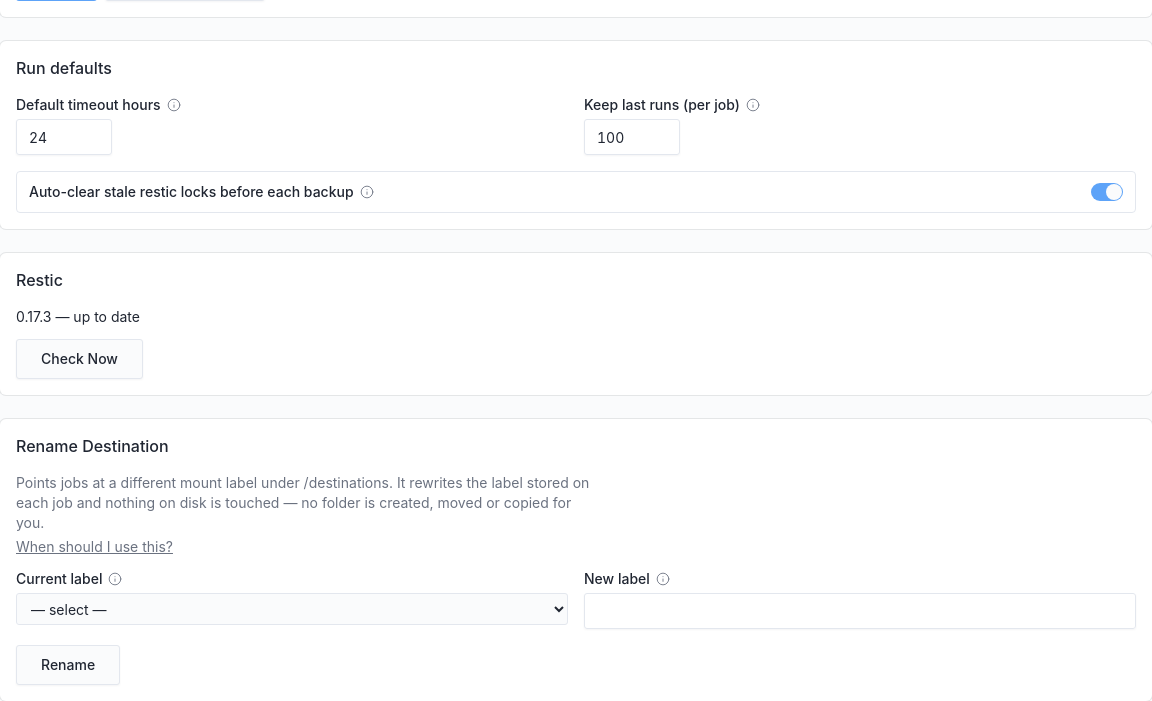
Test case: Settings › rename destination form › shows 422 validation error for invalid label characters
(page scrolled)
Type "invalid label!" into the field labelled "New label".
click(860, 611); type("invalid label!")  # box [584, 593, 1136, 629]
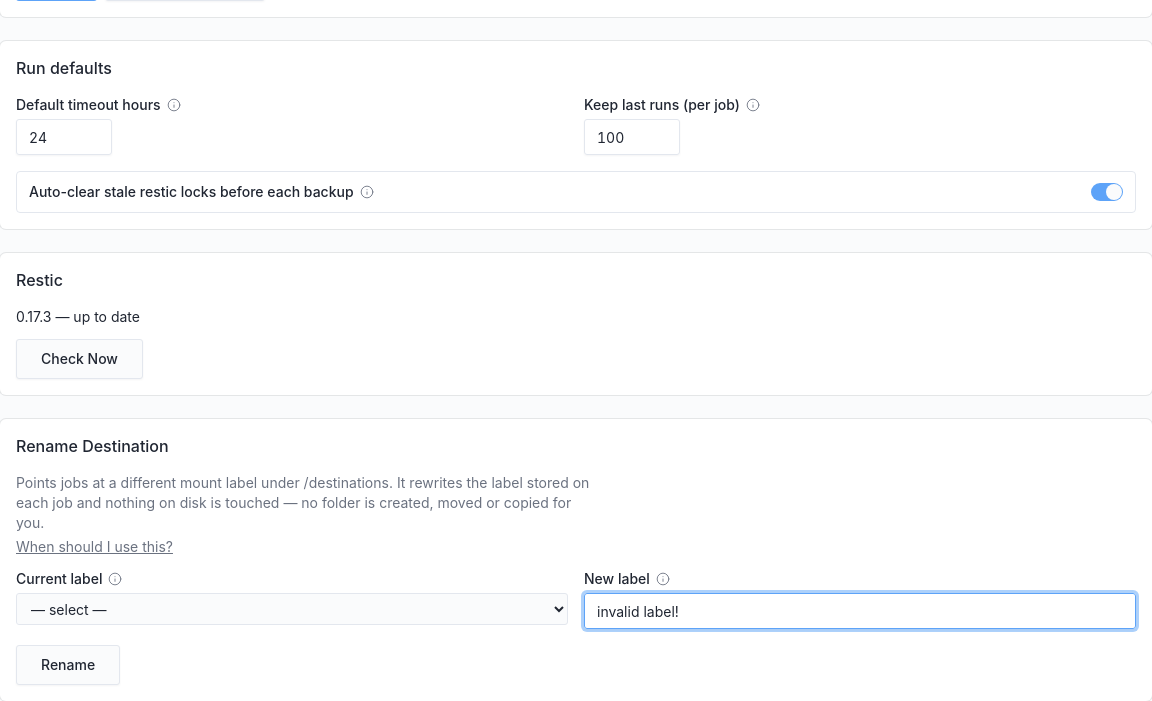
Click the button "Rename".
click(68, 665)  # box [16, 645, 120, 685]
(page scrolled)
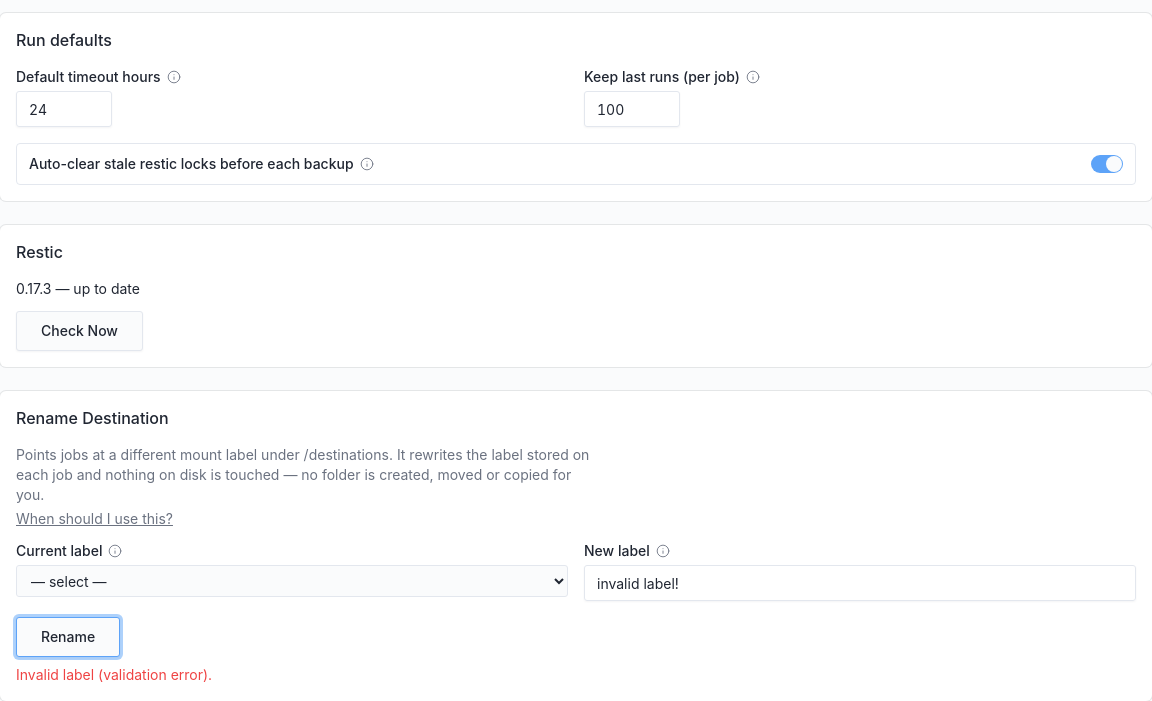
Check: the text "Invalid label (validation error)." is shown, box [16, 666, 212, 683]
